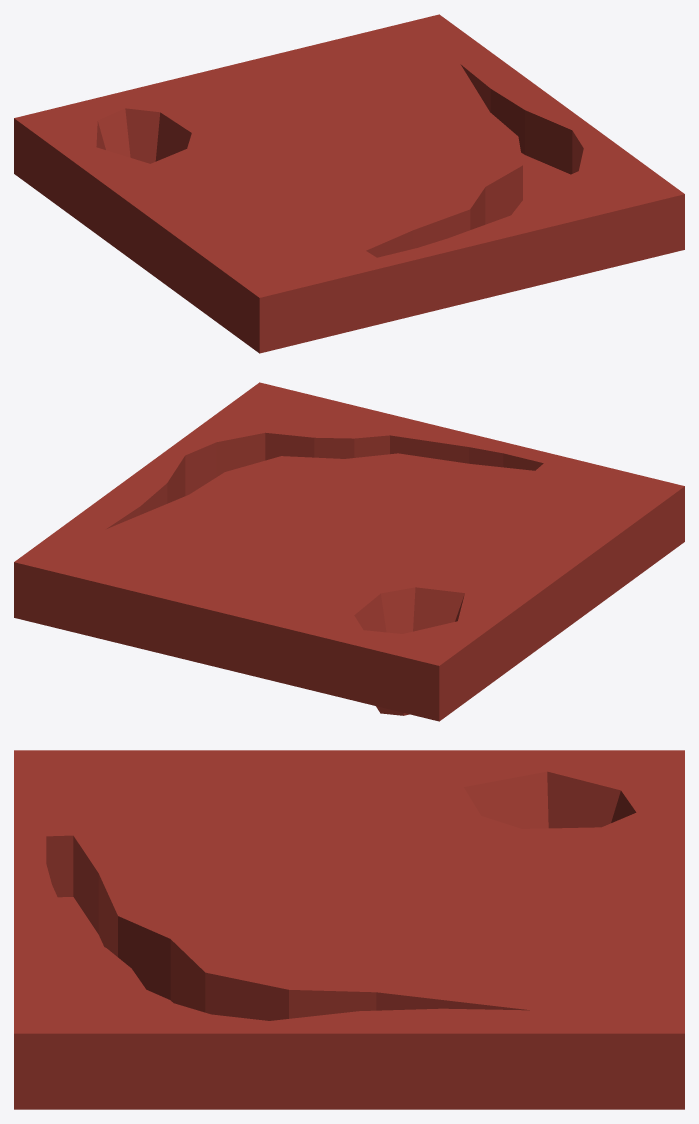
Rendered from Field_4.fbx.
3 renders of one model, top to bottom at view 1: azimuth 30°, elevation 25°; view 2: azimuth 150°, elevation 25°; view 3: azimuth 270°, elevation 25°, orthographic. The views are drawn at different scales.
Parts seen in each view (by area): view 1: Plane.005; view 2: Plane.005; view 3: Plane.005.
Boxes of the visible parts, bbox=[...] form: Plane.005: bbox=[14, 14, 684, 353]; Plane.005: bbox=[14, 382, 684, 721]; Plane.005: bbox=[14, 750, 684, 1109].
Bounding box in the file's own units: 400 × 81.94 × 400.
